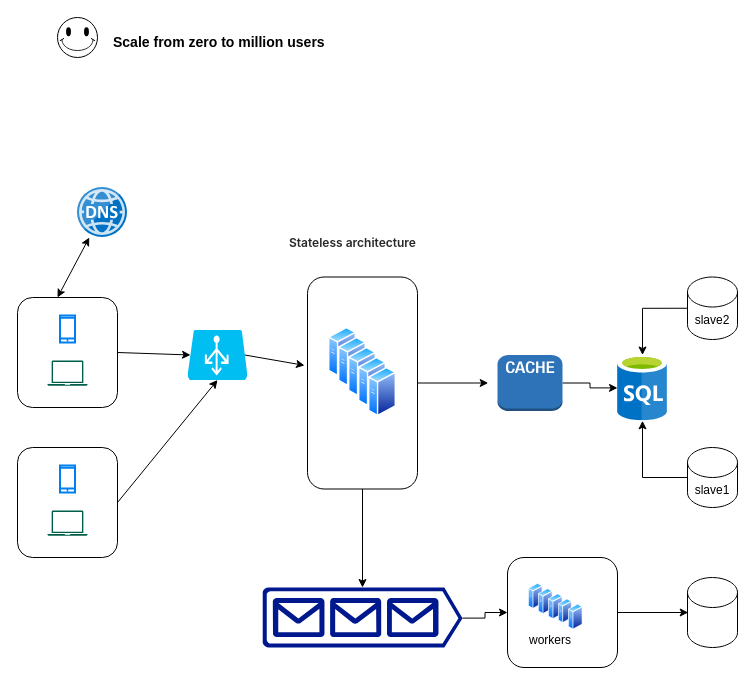
Image size: 755x686. Some labels were removed from this diagram. The shapes that lost their labels are listed below. From the top down, each one's centre as x and y in pixels, then its label:
At point (362, 617): "Message Q".
At point (712, 612): "NoSQL".
